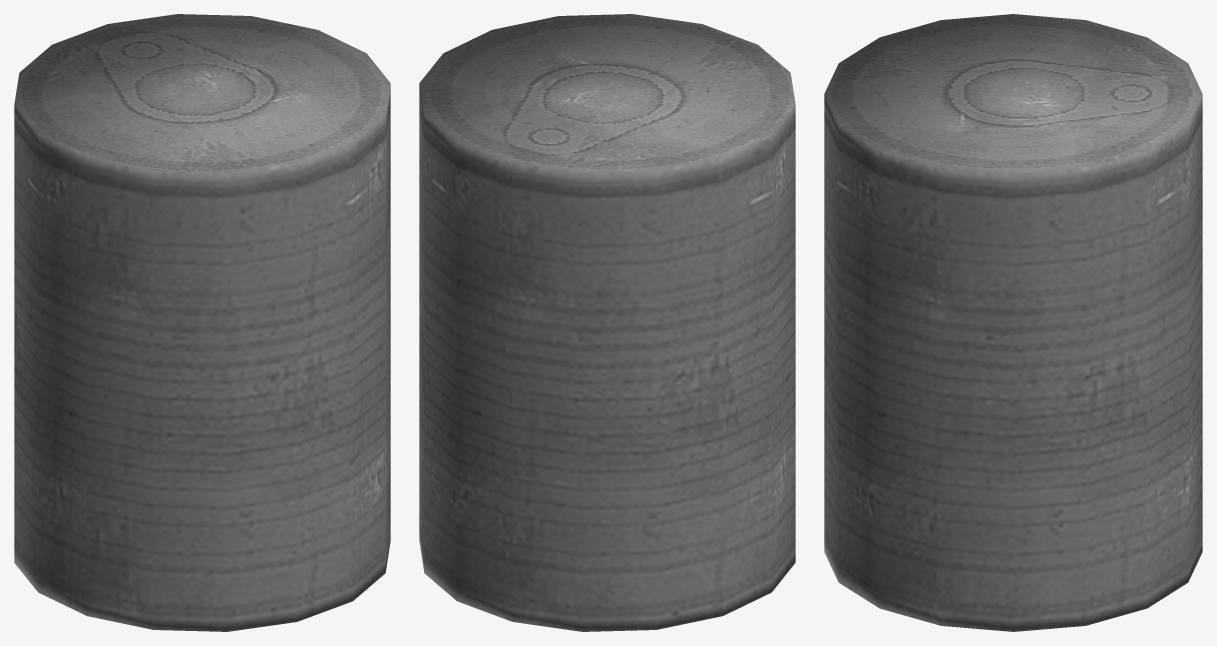
The model's file is TincanLOW22.fbx.
3 views of the same model, side by side, from view 1: azimuth 30°, elevation 25°; view 2: azimuth 150°, elevation 25°; view 3: azimuth 270°, elevation 25° (orthographic).
Parts seen in each view (by area): view 1: TincanLOW; view 2: TincanLOW; view 3: TincanLOW.
Boxes of the visible parts, x1,y1,x2,y2 form: TincanLOW: (14, 14, 390, 631); TincanLOW: (419, 14, 795, 631); TincanLOW: (824, 14, 1202, 631).
Size of the model in its own units: 62.1 by 82.93 by 62.1.
